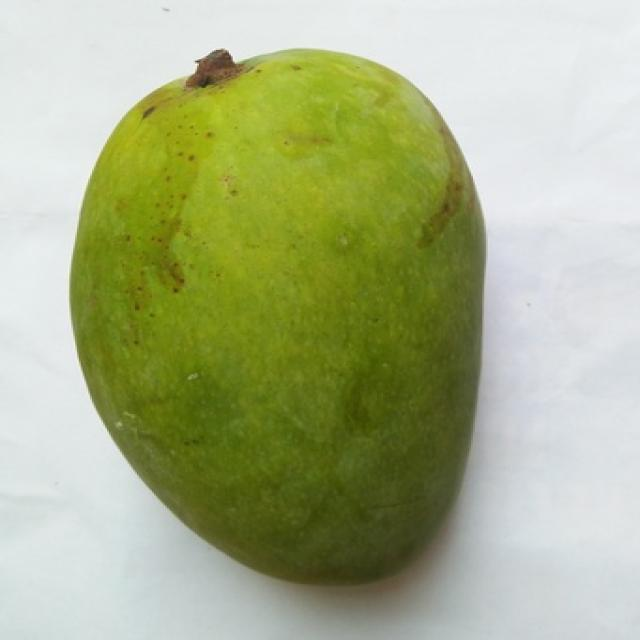Mango: (71, 50, 484, 581)
